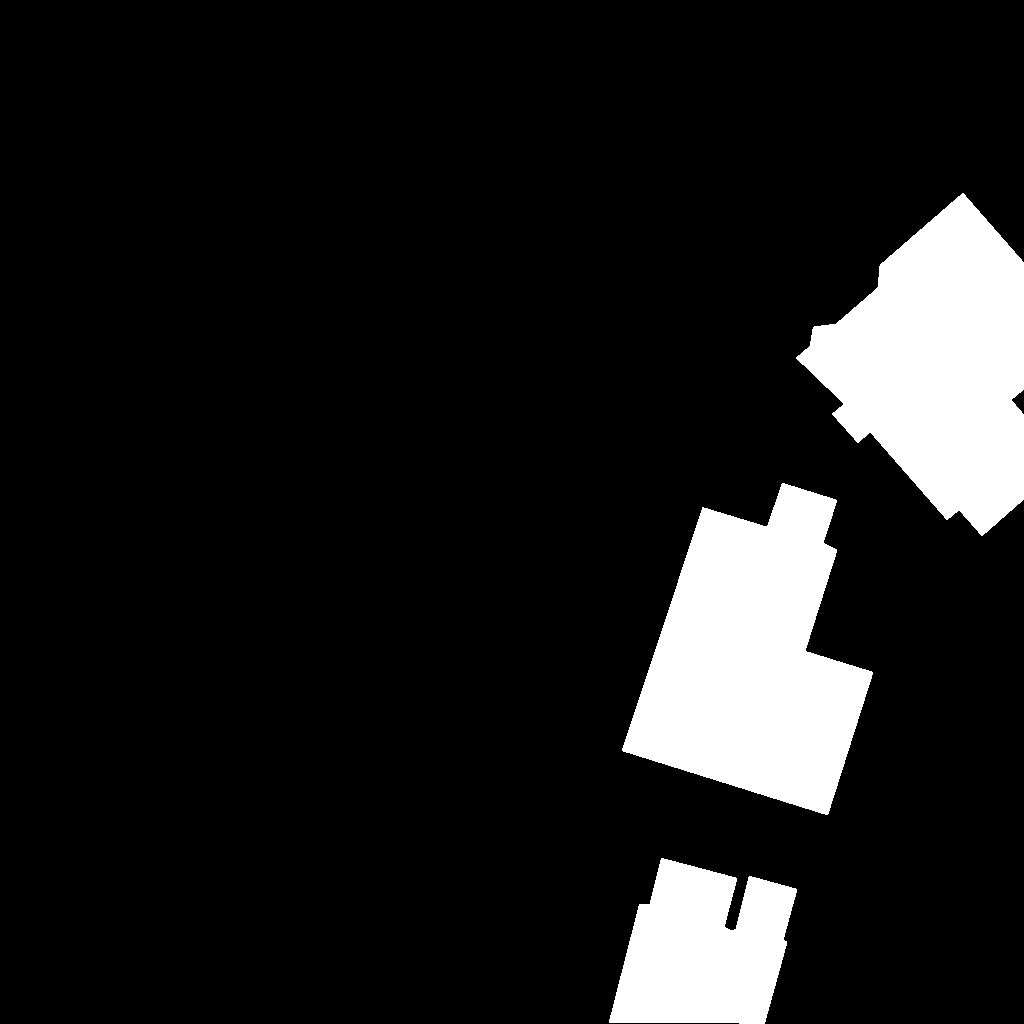building: (622, 483, 874, 816), (796, 193, 1024, 537), (609, 858, 798, 1024)
